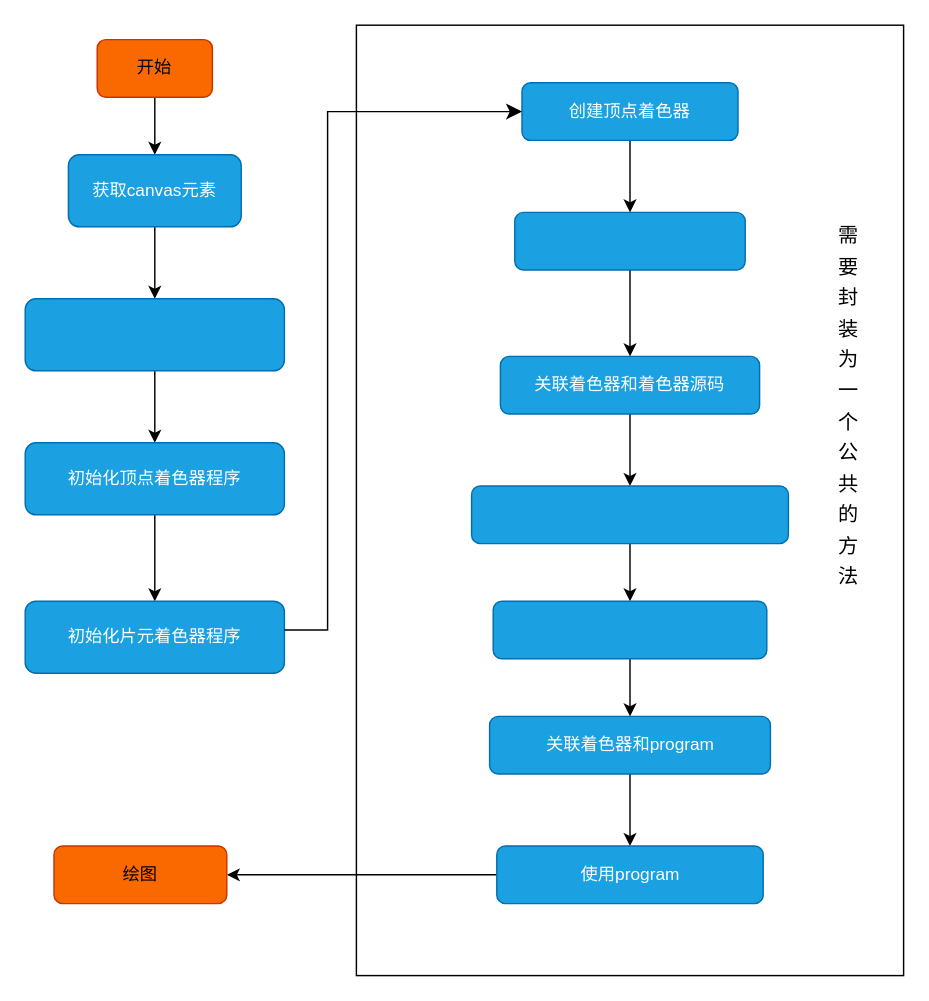
Image size: 929x1001. Some labels were removed from this diagram. The box of each missing label's shape, as (x1, y1, x2, y2) in pixels:
创建program: (492, 600, 767, 659)
创建片元着色器: (513, 211, 745, 270)
编译着色器: (470, 485, 788, 544)
获取webgl绘图上下文: (24, 297, 284, 371)
